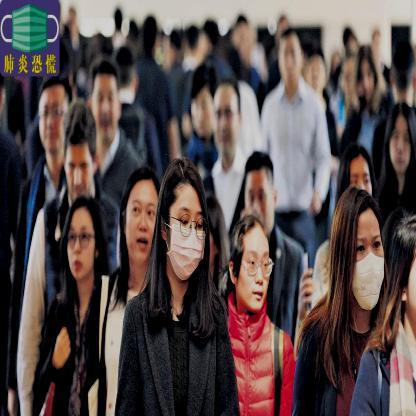with_mask: (329, 188, 387, 312), (159, 155, 207, 271)
without_mask: (225, 209, 279, 313), (118, 165, 163, 272), (241, 152, 288, 239), (59, 197, 103, 283), (62, 105, 98, 202), (87, 60, 123, 145), (212, 81, 244, 167), (36, 79, 72, 155), (187, 61, 219, 141), (388, 97, 414, 183), (353, 45, 383, 113), (277, 29, 306, 93)
